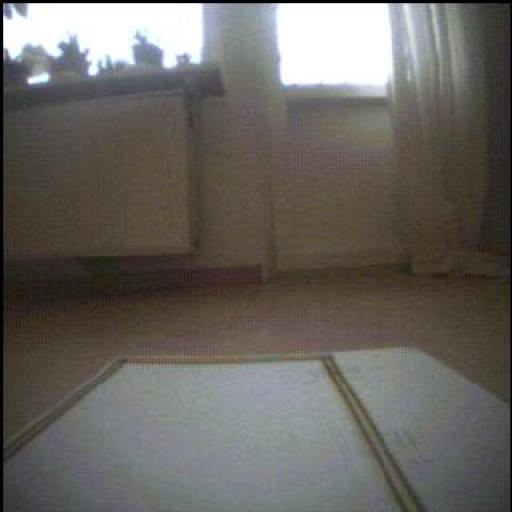Pad: (4, 351, 449, 512)
